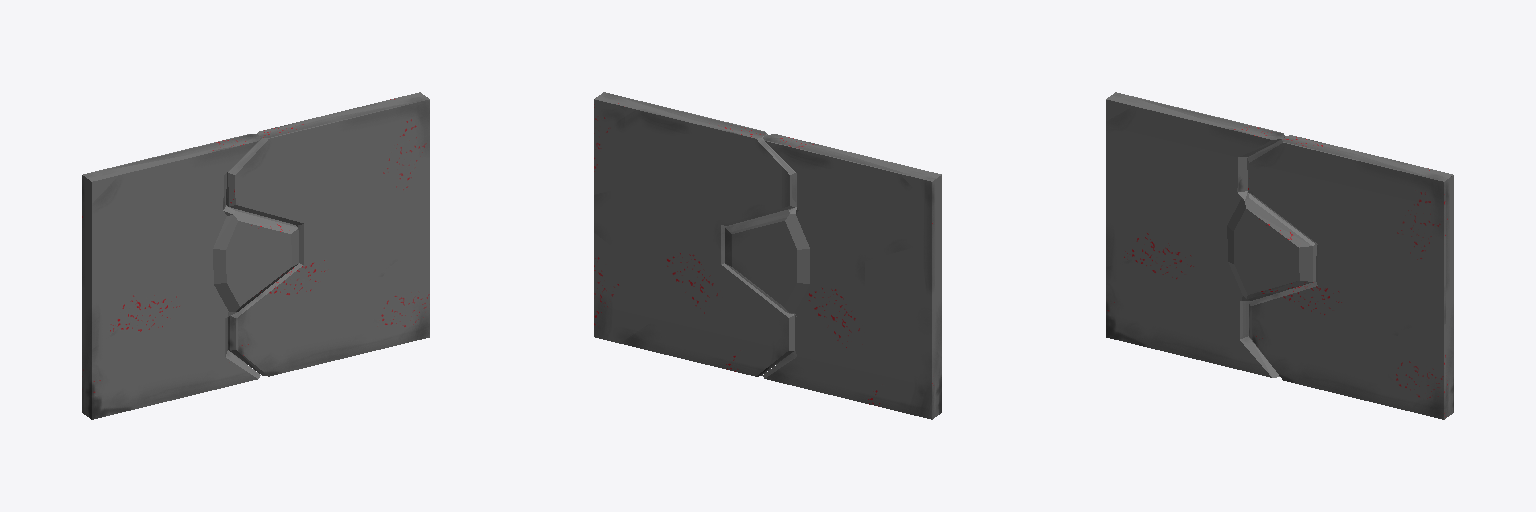
3 views of the same model, side by side, from view 1: azimuth 30°, elevation 25°; view 2: azimuth 150°, elevation 25°; view 3: azimuth 330°, elevation 25° (orthographic).
Visible parts, largest first — view 1: pCube1 polySurface2, polySurface1 pCube1; view 2: pCube1 polySurface2, polySurface1 pCube1; view 3: pCube1 polySurface2, polySurface1 pCube1.
Part boxes in pixels (bbox=[...]): pCube1 polySurface2: bbox=[226, 92, 429, 376]; polySurface1 pCube1: bbox=[82, 134, 298, 419]; pCube1 polySurface2: bbox=[594, 92, 796, 376]; polySurface1 pCube1: bbox=[725, 134, 941, 419]; pCube1 polySurface2: bbox=[1247, 135, 1453, 419]; polySurface1 pCube1: bbox=[1106, 92, 1316, 377].
Bounding box in the file's own units: 15.44 × 10.39 × 1.29.
Materials: 1 (1 with a texture image).